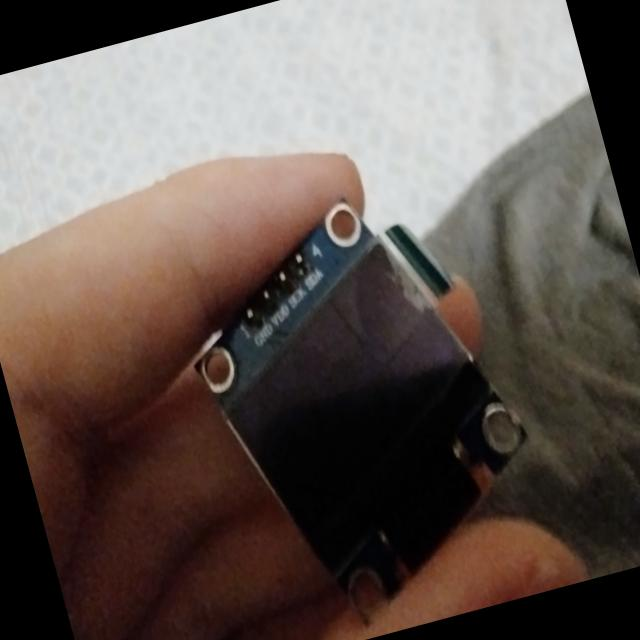oled: (161, 158, 568, 640)
